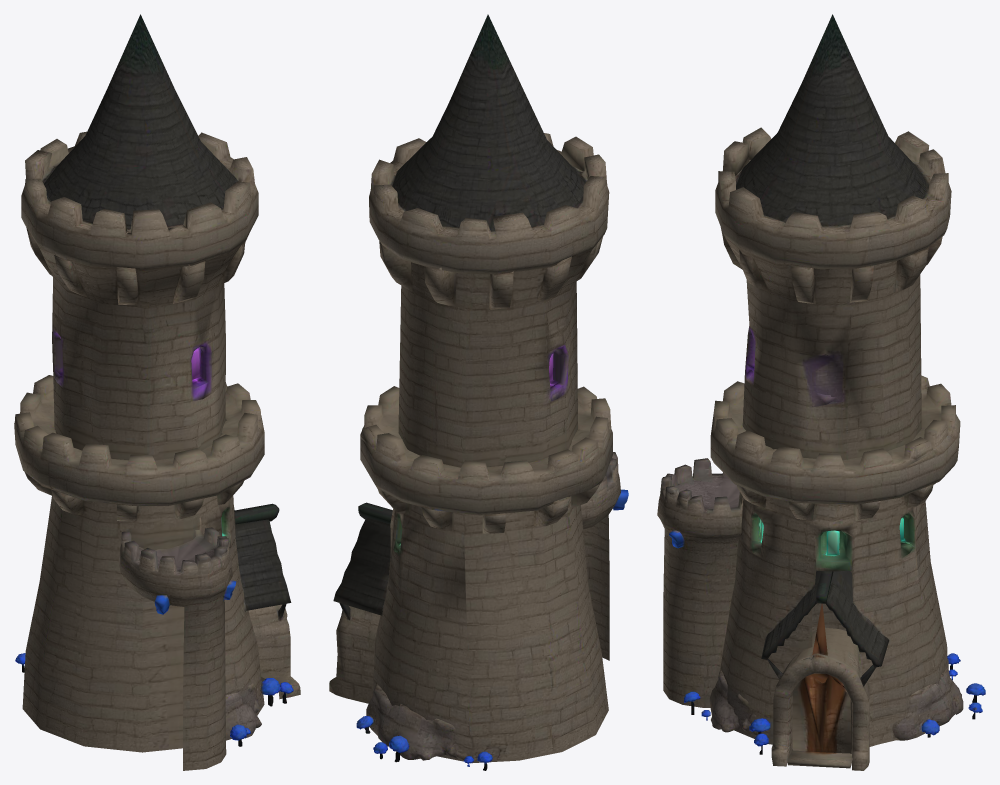
File: enchanter_tripo.glb
3 views of the same model, side by side, from view 1: azimuth 30°, elevation 25°; view 2: azimuth 150°, elevation 25°; view 3: azimuth 270°, elevation 25° (orthographic).
Parts seen in each view (by area): view 1: tripo_node_5829e9e7-1438-4b80-b7d9-ef27bec0b72f; view 2: tripo_node_5829e9e7-1438-4b80-b7d9-ef27bec0b72f; view 3: tripo_node_5829e9e7-1438-4b80-b7d9-ef27bec0b72f.
Boxes of the visible parts, left/top/right/bottom form: tripo_node_5829e9e7-1438-4b80-b7d9-ef27bec0b72f: left=14, top=14, right=300, bottom=770; tripo_node_5829e9e7-1438-4b80-b7d9-ef27bec0b72f: left=329, top=14, right=628, bottom=770; tripo_node_5829e9e7-1438-4b80-b7d9-ef27bec0b72f: left=657, top=14, right=985, bottom=770.
Bounding box in the file's own units: 4.53 × 12 × 5.19.
1 material, 1 textured.
